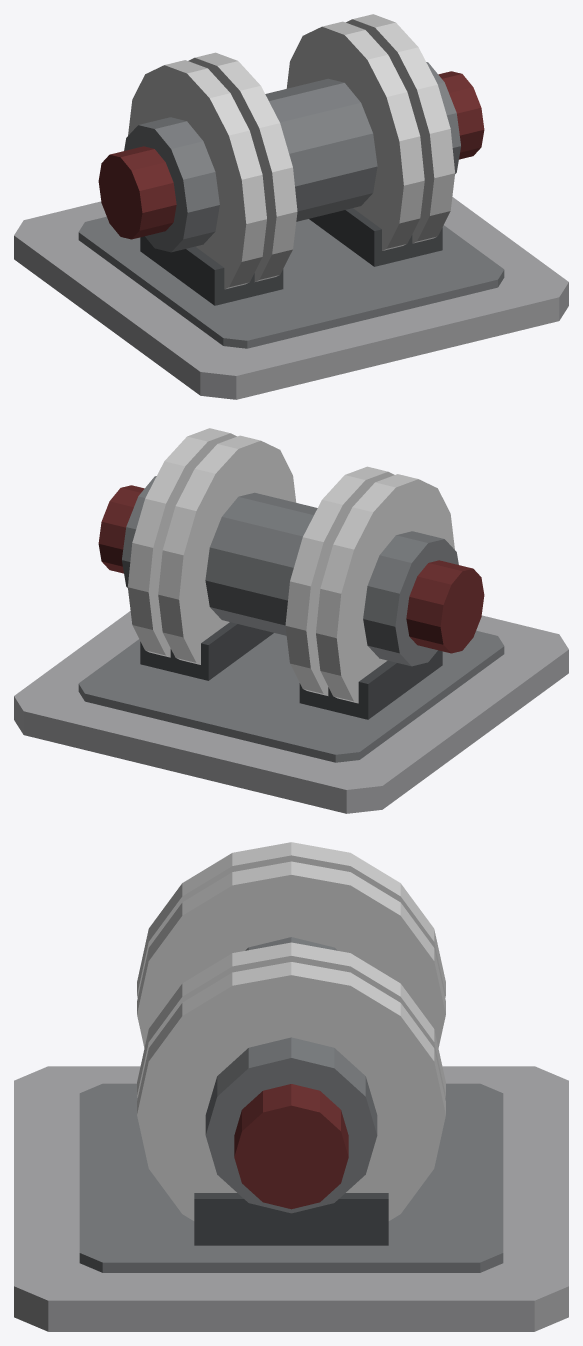
Rendered from fuel_optimizer.obj.
3 views of the same model, one above another, from view 1: azimuth 30°, elevation 25°; view 2: azimuth 150°, elevation 25°; view 3: azimuth 270°, elevation 25° (orthographic). The views are drawn at different scales.
Parts seen in each view (by area): view 1: fuel_optimizer_0, fuel_optimizer_1, fuel_optimizer_10, fuel_optimizer_4, fuel_optimizer_7, fuel_optimizer_3, fuel_optimizer_8, fuel_optimizer_5, fuel_optimizer_2, fuel_optimizer_6, fuel_optimizer_9; view 2: fuel_optimizer_0, fuel_optimizer_1, fuel_optimizer_10, fuel_optimizer_4, fuel_optimizer_7, fuel_optimizer_3, fuel_optimizer_8, fuel_optimizer_5, fuel_optimizer_2, fuel_optimizer_6, fuel_optimizer_9; view 3: fuel_optimizer_0, fuel_optimizer_8, fuel_optimizer_1, fuel_optimizer_3, fuel_optimizer_10, fuel_optimizer_9, fuel_optimizer_6, fuel_optimizer_7, fuel_optimizer_4.
Part boxes in pixels (<box>): fuel_optimizer_0: <box>14,197,568,399</box>; fuel_optimizer_1: <box>78,216,504,348</box>; fuel_optimizer_10: <box>124,62,460,252</box>; fuel_optimizer_4: <box>128,60,266,289</box>; fuel_optimizer_7: <box>286,21,424,250</box>; fuel_optimizer_3: <box>188,52,297,281</box>; fuel_optimizer_8: <box>346,14,455,243</box>; fuel_optimizer_5: <box>98,146,176,239</box>; fuel_optimizer_2: <box>140,236,283,305</box>; fuel_optimizer_6: <box>309,208,442,266</box>; fuel_optimizer_9: <box>438,71,484,159</box>; fuel_optimizer_0: <box>14,611,568,813</box>; fuel_optimizer_1: <box>78,630,504,762</box>; fuel_optimizer_10: <box>122,476,458,666</box>; fuel_optimizer_4: <box>316,474,454,703</box>; fuel_optimizer_7: <box>158,435,296,664</box>; fuel_optimizer_3: <box>285,466,394,695</box>; fuel_optimizer_8: <box>127,428,236,657</box>; fuel_optimizer_5: <box>406,560,484,653</box>; fuel_optimizer_2: <box>299,650,442,719</box>; fuel_optimizer_6: <box>140,622,273,680</box>; fuel_optimizer_9: <box>98,485,144,573</box>; fuel_optimizer_0: <box>14,1066,568,1331</box>; fuel_optimizer_8: <box>137,962,445,1220</box>; fuel_optimizer_1: <box>79,1083,503,1272</box>; fuel_optimizer_3: <box>137,861,445,1047</box>; fuel_optimizer_10: <box>205,937,377,1213</box>; fuel_optimizer_9: <box>234,1084,348,1209</box>; fuel_optimizer_6: <box>194,1193,388,1245</box>; fuel_optimizer_7: <box>137,942,445,1097</box>; fuel_optimizer_4: <box>137,842,445,997</box>.
Bounding box in the file's own units: 1.94 × 1.18 × 1.94.
